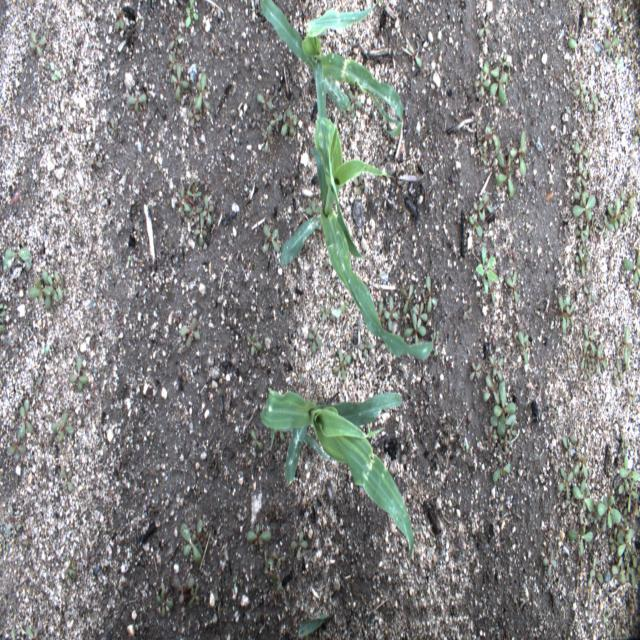crop: (279, 121, 435, 359), (258, 386, 414, 560), (260, 0, 406, 136), (296, 613, 330, 636)
weed: (5, 398, 40, 469), (605, 7, 636, 69), (557, 10, 598, 55), (26, 266, 64, 310), (572, 79, 599, 139), (177, 513, 208, 565), (496, 146, 525, 200), (611, 328, 636, 385), (257, 217, 283, 268), (476, 240, 498, 299), (568, 522, 598, 564), (556, 286, 577, 342), (495, 383, 516, 435), (171, 576, 205, 608), (22, 28, 50, 66), (469, 196, 492, 241), (265, 539, 288, 582), (49, 412, 75, 448), (67, 354, 91, 392), (472, 8, 496, 46), (154, 580, 179, 616), (176, 312, 201, 348), (330, 348, 355, 384), (563, 423, 583, 468), (621, 250, 638, 302), (516, 319, 532, 374), (192, 71, 211, 117), (316, 296, 349, 322), (4, 243, 34, 271), (170, 63, 189, 106), (245, 524, 277, 549), (43, 51, 65, 86), (488, 458, 516, 485), (63, 543, 81, 583), (573, 190, 594, 224), (29, 366, 48, 403), (288, 522, 307, 558), (599, 496, 623, 522), (505, 265, 520, 306), (408, 36, 422, 78), (384, 296, 401, 330), (111, 7, 129, 39), (306, 324, 322, 360), (542, 549, 561, 579), (124, 90, 152, 110), (619, 482, 637, 513), (246, 328, 267, 354), (357, 331, 374, 363), (617, 528, 633, 562), (588, 557, 606, 587), (5, 508, 24, 536), (106, 110, 123, 141), (405, 313, 426, 338), (491, 73, 508, 103), (86, 150, 102, 181), (424, 276, 438, 311), (52, 190, 73, 213), (185, 102, 201, 132), (559, 468, 576, 496), (399, 286, 415, 315), (619, 459, 638, 483), (1, 293, 11, 337), (281, 109, 297, 136), (574, 486, 592, 510), (590, 348, 607, 373), (582, 275, 597, 303), (608, 201, 622, 231), (61, 468, 75, 497), (500, 426, 516, 451), (182, 4, 197, 30), (621, 194, 634, 224), (468, 361, 481, 390), (249, 431, 264, 456), (487, 358, 504, 380), (10, 624, 41, 636), (571, 454, 587, 477), (608, 523, 620, 553), (485, 377, 497, 405), (476, 69, 490, 93), (169, 41, 184, 63), (612, 560, 627, 582), (194, 219, 207, 244), (626, 386, 637, 414), (257, 93, 274, 111), (204, 194, 214, 223), (414, 302, 426, 326), (576, 250, 588, 274), (600, 214, 613, 236), (582, 331, 596, 351), (179, 189, 189, 215), (576, 146, 591, 163), (38, 340, 50, 361), (574, 224, 588, 242), (485, 129, 498, 148), (187, 185, 201, 202), (630, 559, 639, 585), (587, 506, 601, 522), (190, 206, 202, 224), (264, 124, 272, 151), (576, 168, 586, 188), (621, 438, 631, 456), (498, 53, 510, 68), (272, 111, 281, 130), (251, 112, 261, 129), (580, 355, 588, 373), (473, 116, 480, 132), (566, 499, 575, 511)
